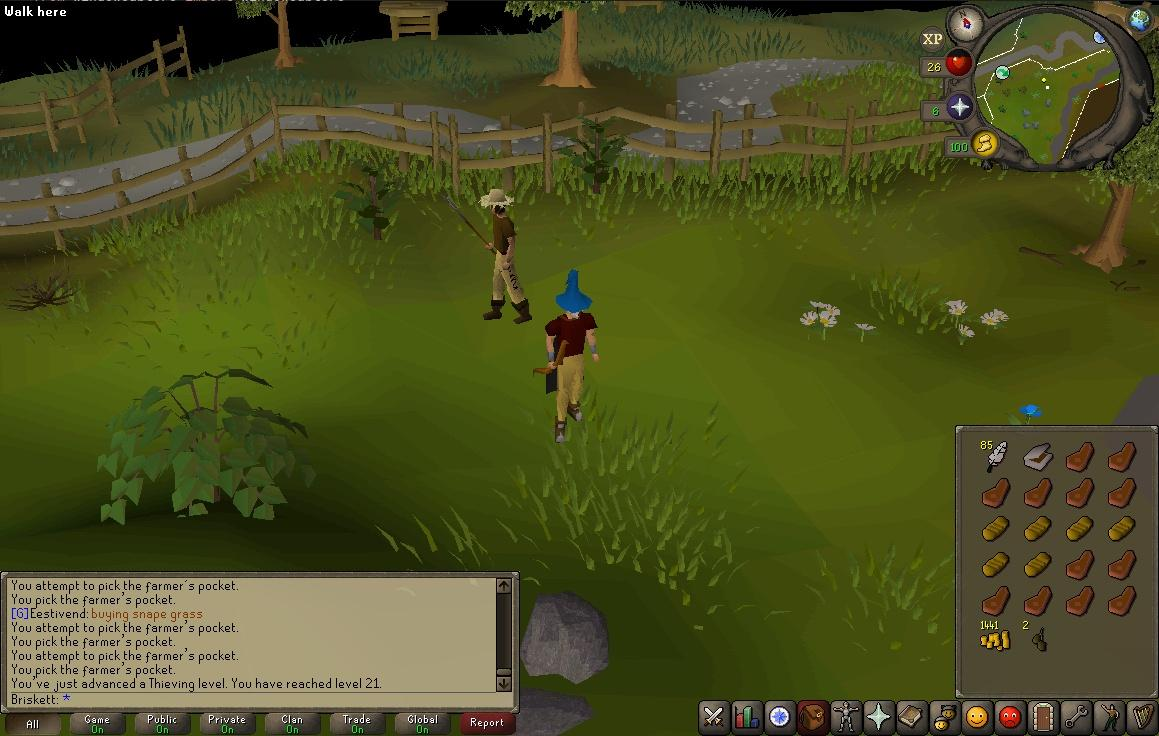Farmer: (480, 188, 533, 324)
